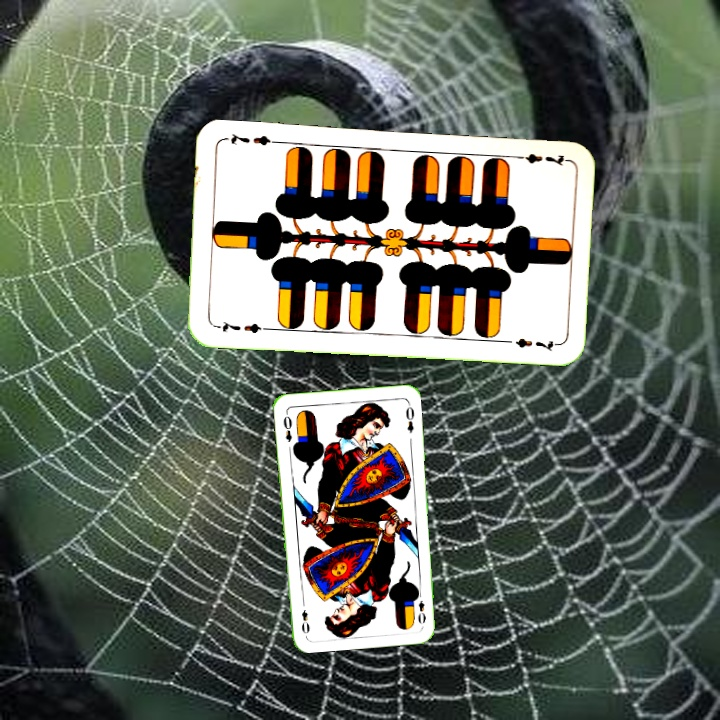E7: (211, 317, 270, 336), (510, 150, 569, 168)
EO: (412, 587, 428, 626), (279, 408, 295, 444)
